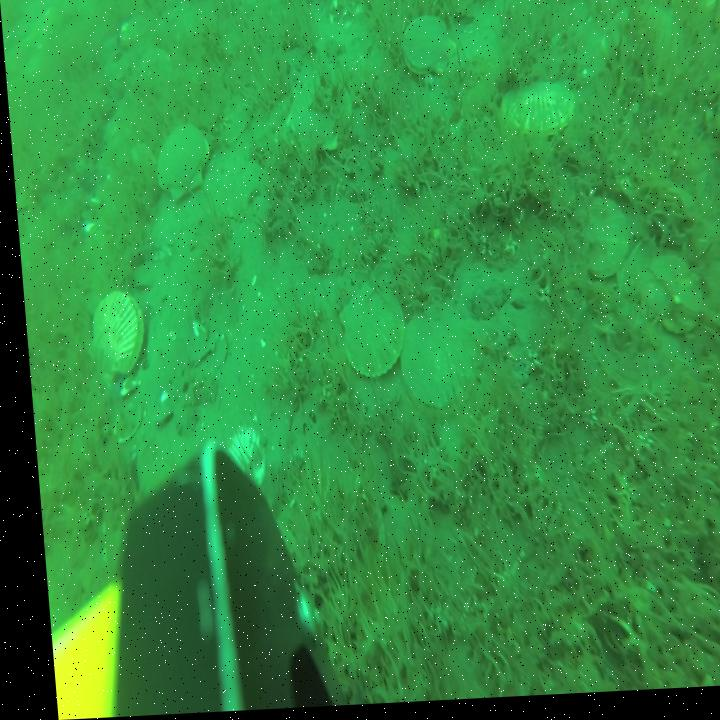scallop: (392, 310, 477, 410), (329, 284, 404, 383), (595, 14, 680, 83), (283, 74, 353, 157), (83, 290, 144, 381), (494, 82, 574, 143), (575, 201, 630, 284), (149, 128, 210, 201), (395, 16, 456, 83), (216, 428, 259, 491)
